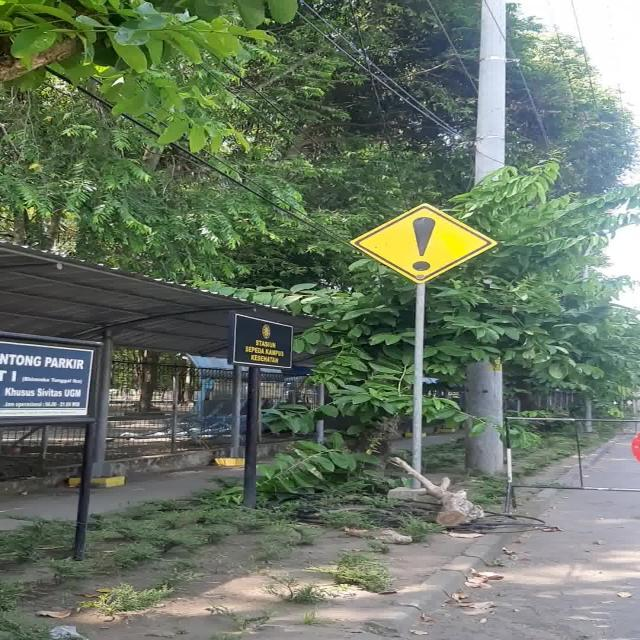Hati-Hati: (349, 204, 497, 284)
